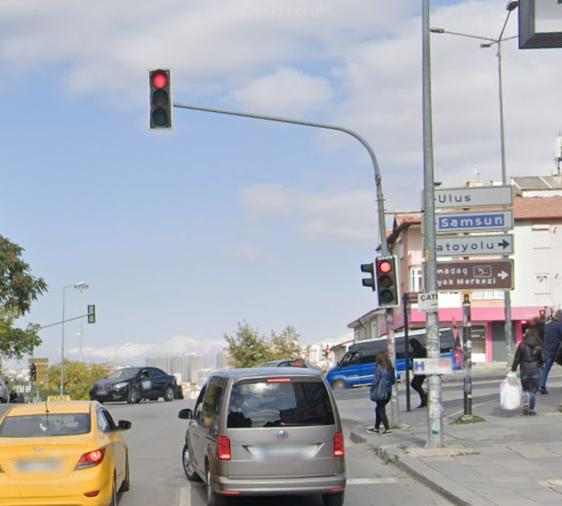redlight: (149, 69, 172, 131), (375, 255, 400, 307)
